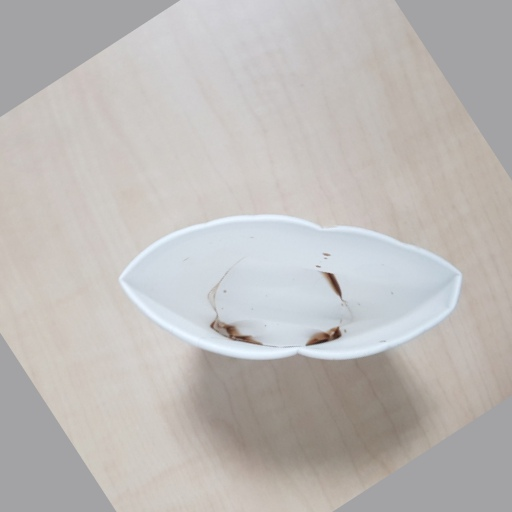Paper_1: (116, 214, 467, 367)
